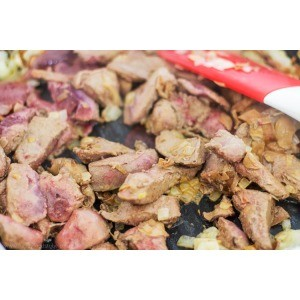liver_brain food: (33, 82, 235, 214)
